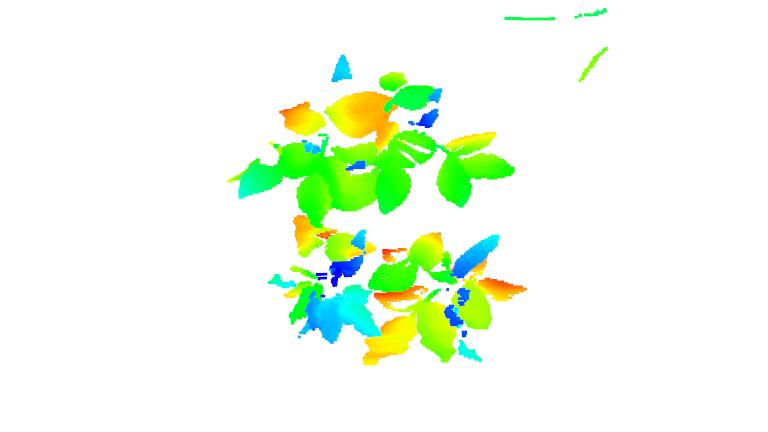mungbean: (334, 71, 518, 222), (230, 54, 362, 258), (357, 231, 530, 369), (267, 230, 382, 350)
